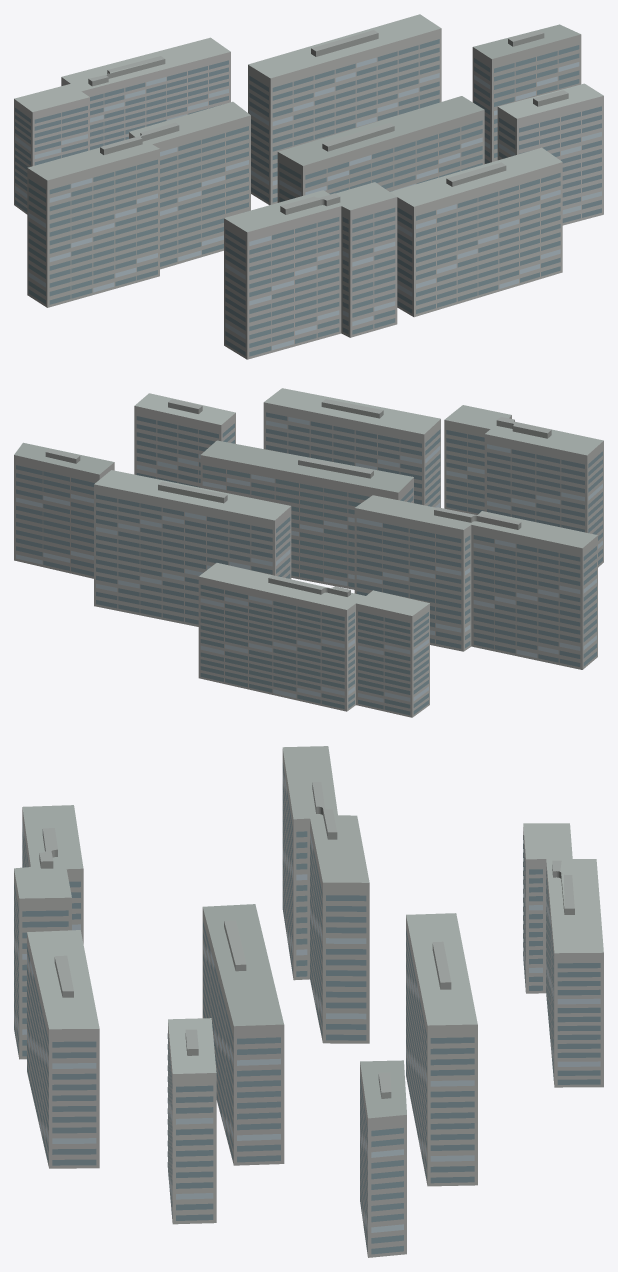
File: apt-a13286109.glb
The picture shows the model from 3 angles, top to bottom: view 1: azimuth 30°, elevation 25°; view 2: azimuth 150°, elevation 25°; view 3: azimuth 270°, elevation 25°; orthographic projection. The views are drawn at different scales.
Parts seen in each view (by area): view 1: apt-a13286109; view 2: apt-a13286109; view 3: apt-a13286109.
Part boxes in pixels (left/top/right/bottom): apt-a13286109: left=14, top=14, right=603, bottom=359; apt-a13286109: left=14, top=388, right=603, bottom=717; apt-a13286109: left=14, top=746, right=603, bottom=1257.
Bounding box in the file's own units: 214 × 47.81 × 152.
